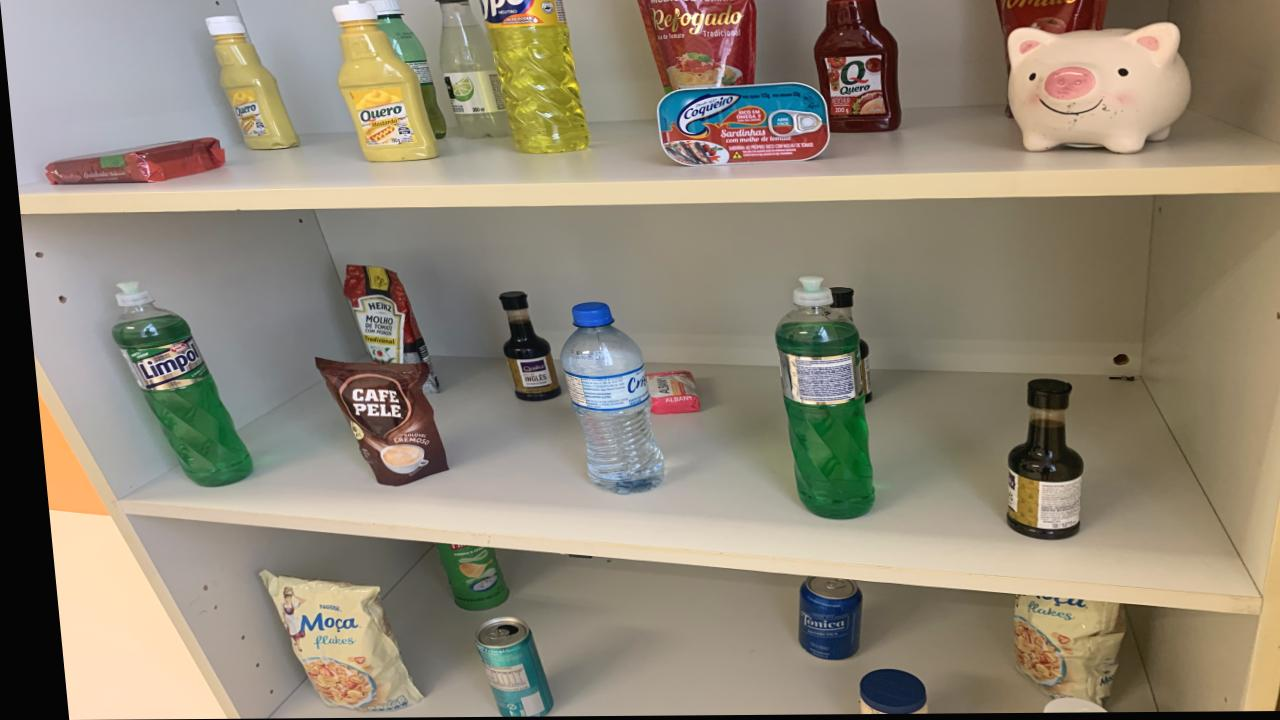Coffee-Pantry_Items: (307, 358, 438, 486)
Detergent-Cleanup_Items: (105, 283, 243, 487), (768, 279, 866, 520), (480, 0, 586, 155)
English_Sauce-Pantry_Items: (997, 380, 1074, 542), (493, 292, 553, 402), (851, 340, 863, 404), (825, 288, 848, 321)
Flakes-Snacks: (249, 571, 408, 713), (1000, 596, 1115, 707)
Guarana-Drinks: (370, 0, 445, 140)
Guava-Snacks: (43, 138, 222, 184)
Ketchup-Pantry_Items: (812, 0, 899, 134)
Mayonnaise-Pantry_Items: (845, 670, 913, 715)
Mustard-Pantry_Items: (333, 2, 435, 163), (204, 16, 296, 150)
Pig_Safe-Miscellaneous: (1005, 25, 1190, 155)
Pringles-Snacks: (424, 543, 498, 611)
Soap-Cleanup_Items: (639, 371, 691, 415)
Soda-Drinks: (438, 0, 508, 140)
Tea-Drinks: (461, 618, 539, 717)
Tomato_Sauce-Pantry_Items: (337, 266, 432, 393), (638, 0, 757, 94), (995, 0, 1108, 41)
Tonic-Drinks: (785, 579, 851, 661)
Water_Bottle-Drinks: (552, 302, 656, 495)
